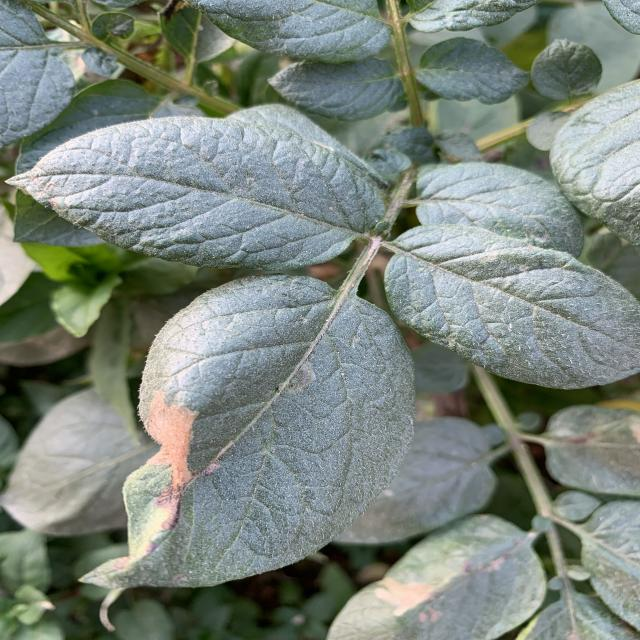lateblight: (145, 391, 198, 530)
